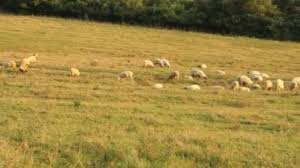sheep: (116, 69, 135, 83), (247, 68, 262, 83), (191, 68, 207, 82), (24, 55, 46, 65), (237, 74, 251, 89), (166, 71, 180, 83), (68, 66, 82, 78), (275, 78, 285, 94), (11, 58, 26, 68), (291, 75, 300, 91), (264, 78, 273, 94), (143, 60, 155, 72), (184, 83, 201, 91), (180, 75, 193, 85), (148, 80, 161, 90), (159, 58, 170, 69), (155, 59, 165, 70), (227, 81, 239, 90), (200, 65, 211, 73)
